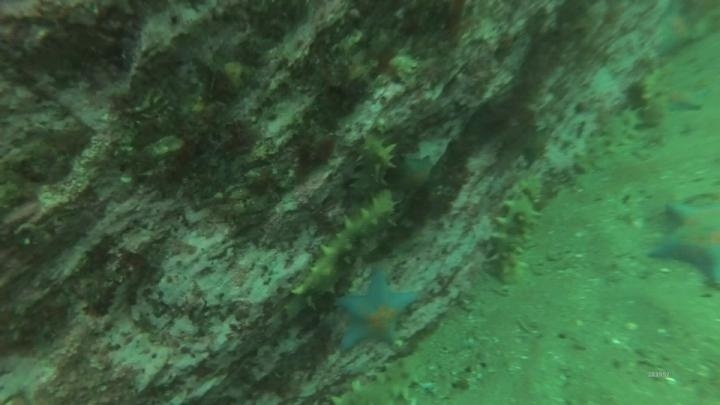holothurian: (286, 191, 402, 313), (486, 170, 547, 286), (329, 351, 438, 405), (571, 104, 648, 176), (349, 129, 400, 195), (636, 63, 672, 131)
starfish: (331, 266, 422, 355), (644, 195, 720, 290), (649, 2, 706, 59), (386, 150, 441, 202), (658, 81, 708, 116)
